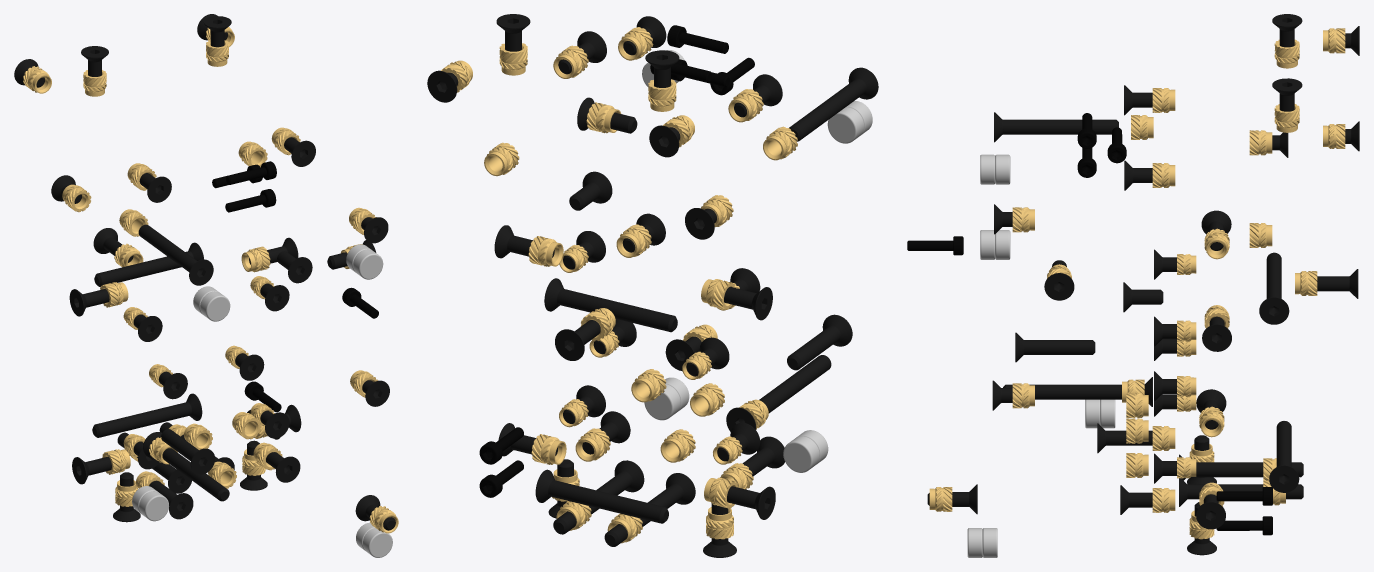
File: screws and fasteners.glb
3 renders of one model, left to right at view 1: azimuth 30°, elevation 25°; view 2: azimuth 150°, elevation 25°; view 3: azimuth 270°, elevation 25°, orthographic. The views are drawn at different scales.
Bounding box in the file's own units: 0.0548 × 0.103 × 0.0905.
